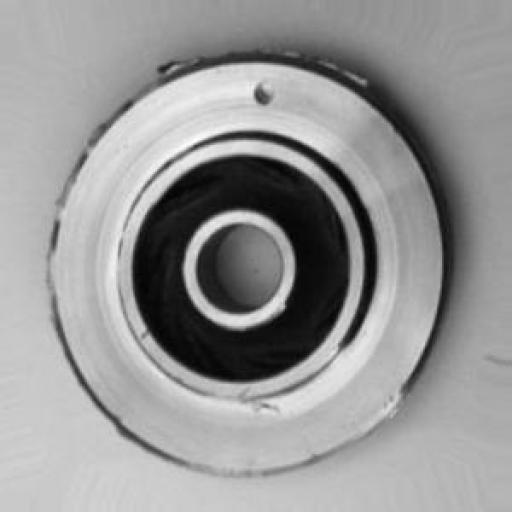defect: (30, 30, 462, 489), (200, 55, 311, 131)
